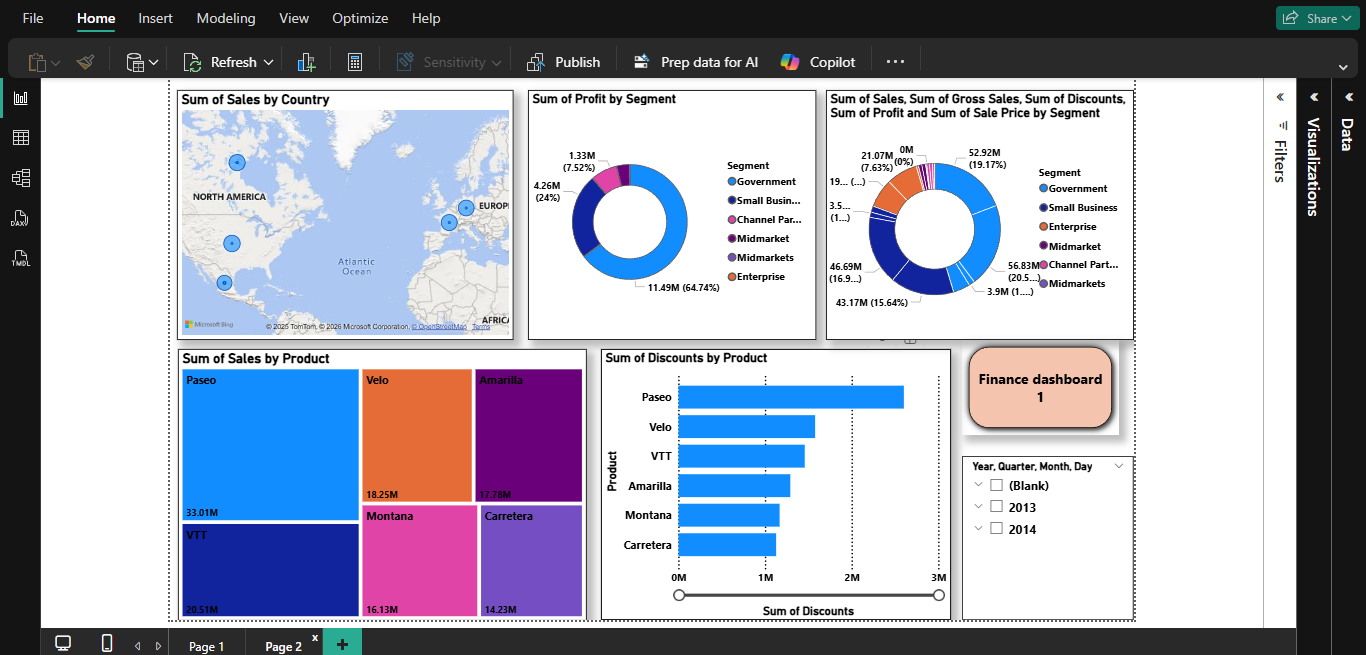

The dashboard page shown, as its layout file describes it:
{"tool":"powerbi","page":{"name":"Page 2","canvas":[1280,720],"ordinal":1},"visuals":[{"type":"map","fields":{"Category":["Data.Country"],"Size":["Sum(Data. Sales)"]},"box":[9.6,16.5,447.3,331.7],"z":0},{"type":"donutChart","fields":{"Y":["Sum(Data.Profit)"],"Category":["Data.Segment"]},"box":[476.2,16.5,382.6,331.7],"z":1000},{"type":"treemap","fields":{"Group":["Data.Product"],"Values":["Sum(Data. Sales)"]},"box":[10.1,359.5,542.6,361.2],"z":2000},{"type":"clusteredBarChart","fields":{"Y":["Sum(Data.Discounts)"],"Category":["Data.Product"]},"box":[572.8,359.5,465.3,361.2],"z":3000},{"type":"donutChart","fields":{"Y":["Sum(Data. Sales)","Sum(Data.Gross Sales)","Sum(Data.Discounts)","Sum(Data.Profit)","Sum(Data.Sale Price)"],"Category":["Data.Segment"]},"box":[871.2,16.5,408.8,331.7],"z":4000},{"type":"slicer","fields":{"Values":["Data.Date.Variation.Date Hierarchy.Year","Data.Date.Variation.Date Hierarchy.Quarter","Data.Date.Variation.Date Hierarchy.Month","Data.Date.Variation.Date Hierarchy.Day"]},"box":[1051.5,502.3,228.5,218.4],"z":5000},{"type":"shape","box":[1051.5,347.7,208.3,126],"z":6000}]}

Visuals, with their boxes on the page's 1280x720 design canvas (x1, y1, x2, y2). These are canvas units, not pixel positions in the 1366x655 screenshot, which may show the page scaled, cropped or inside an application window:
map - Data.Country x Sum(Data. Sales): bbox(10, 16, 457, 348)
donutChart - Sum(Data.Profit) x Data.Segment: bbox(476, 16, 859, 348)
treemap - Data.Product x Sum(Data. Sales): bbox(10, 360, 553, 721)
clusteredBarChart - Sum(Data.Discounts) x Data.Product: bbox(573, 360, 1038, 721)
donutChart - Sum(Data. Sales) x Sum(Data.Gross Sales): bbox(871, 16, 1280, 348)
slicer - Data.Date.Variation.Date Hierarchy.Year x Data.Date.Variation.Date Hierarchy.Quarter: bbox(1052, 502, 1280, 721)
shape: bbox(1052, 348, 1260, 474)
